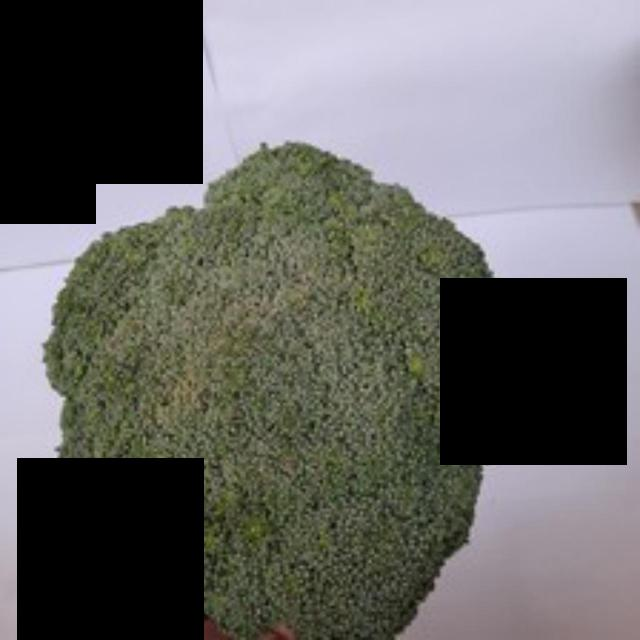broccoli: (37, 131, 525, 637)
